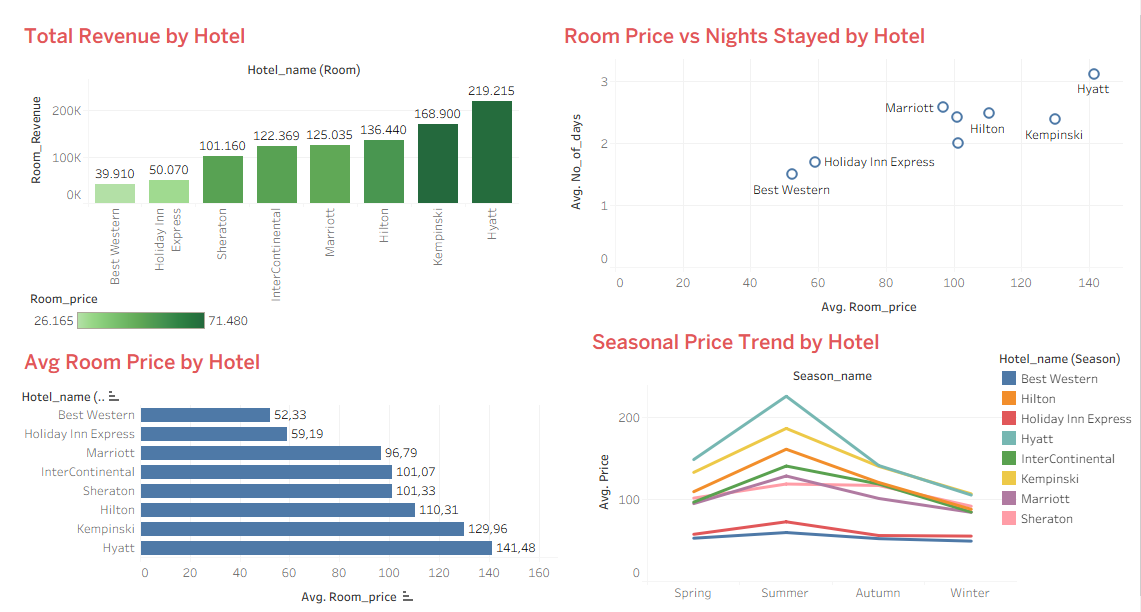

The page's visual inventory and layout, read from the dashboard file:
{"tool":"tableau","page":{"name":"Dashboard 1","canvas":[1000,1000],"units":"permille","ordinal":0},"visuals":[{"type":"worksheet","title":"Sheet 3","mark":"Automatic","rows":["Calculation_0968691838283777"],"cols":["SALARY"],"box":[554.1,3.2,445.9,549.1]},{"type":"worksheet","title":"Sheet 1","mark":"Automatic","rows":["DEPARTMENT_NAME"],"cols":["SALARY"],"box":[5.2,7.9,535.1,536.4]},{"type":"worksheet","title":"Sheet 2","mark":"Automatic","rows":["Calculation_0968691834503168"],"cols":["JOB_TITLE"],"box":[6.1,539.6,561.9,439.9]},{"type":"worksheet","title":"Sheet 4","mark":"Automatic","box":[552.4,549.1,445,446.2]}]}

Visuals, with their boxes on the dashboard's canvas, which has no fixed pixel size, in thousandths of its width and height (x1, y1, x2, y2). These are canvas units, not pixel positions in the 1141x612 screenshot, which may show the page scaled, cropped or inside an application window:
"Sheet 3" worksheet: detection(554, 3, 1000, 552)
"Sheet 1" worksheet: detection(5, 8, 540, 544)
"Sheet 2" worksheet: detection(6, 540, 568, 980)
"Sheet 4" worksheet: detection(552, 549, 997, 995)
